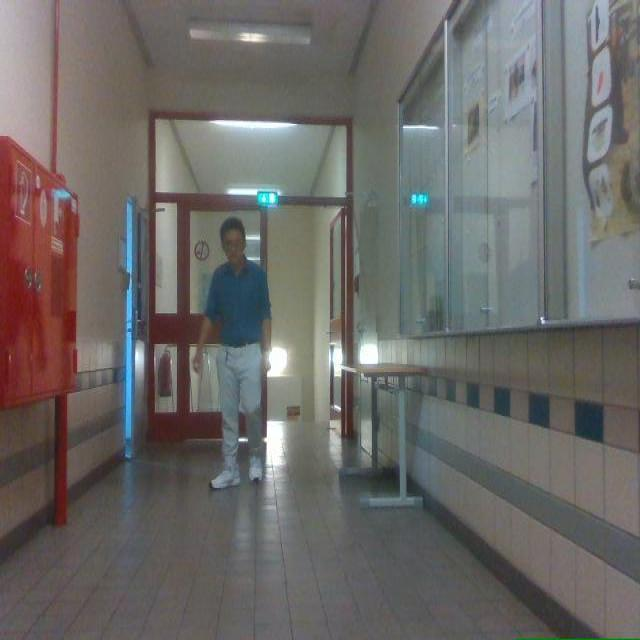humans: (192, 218, 270, 489)
